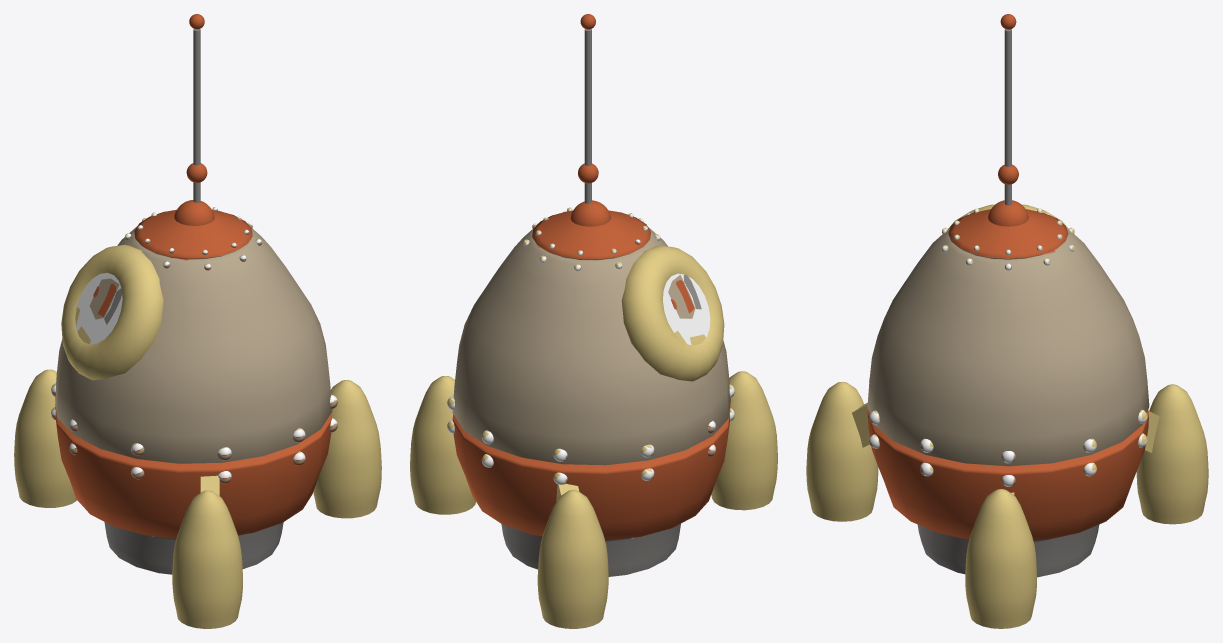
The model's file is spaceship.fbx.
3 renders of one model, left to right at view 1: azimuth 30°, elevation 25°; view 2: azimuth 150°, elevation 25°; view 3: azimuth 270°, elevation 25°, orthographic.
Visible parts, largest first — view 1: pSphere9, pDisc1, pSphere21, pSphere22; view 2: pSphere9, pDisc1, pSphere21, pSphere22; view 3: pSphere9, pSphere21, pSphere22.
Boxes of the visible parts, bbox=[...] form: pSphere9: bbox=[14, 14, 381, 628]; pDisc1: bbox=[75, 272, 122, 344]; pSphere21: bbox=[51, 383, 337, 460]; pSphere22: bbox=[51, 407, 337, 483]; pSphere9: bbox=[410, 14, 777, 628]; pDisc1: bbox=[663, 273, 710, 345]; pSphere21: bbox=[447, 384, 734, 461]; pSphere22: bbox=[447, 408, 734, 484]; pSphere9: bbox=[806, 14, 1208, 628]; pSphere21: bbox=[869, 379, 1147, 463]; pSphere22: bbox=[869, 433, 1147, 486].
Bounding box in the file's own units: 7.89 × 13.03 × 8.97.
Materials: 1 (1 with a texture image).
